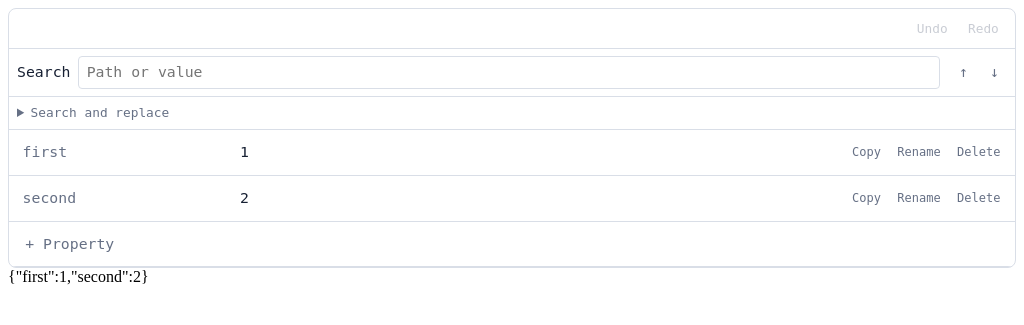
Test: ObjectEditor › keeps add and rename forms open when a key is invalid
Step 1. Click the button with aria-label "Add property to root" → (70, 244), box x1=17 y1=228 x2=122 y2=260
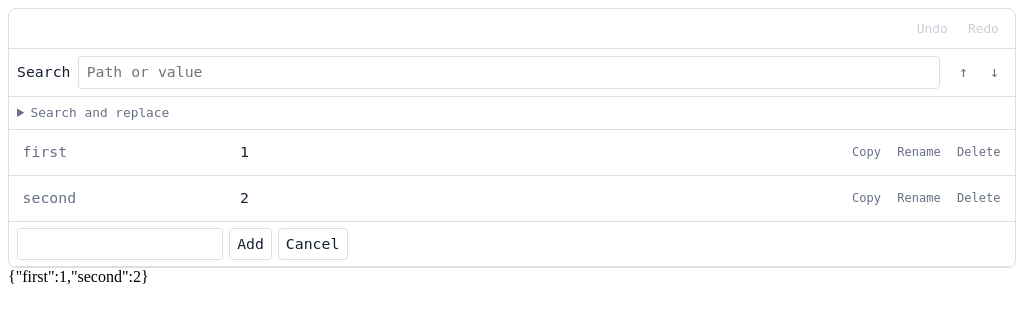
Step 2. Type "first" into the field named "New property name in root" → (120, 244), box x1=17 y1=228 x2=223 y2=260
Step 3. Click the button "Add" → (251, 244), box x1=229 y1=228 x2=272 y2=260
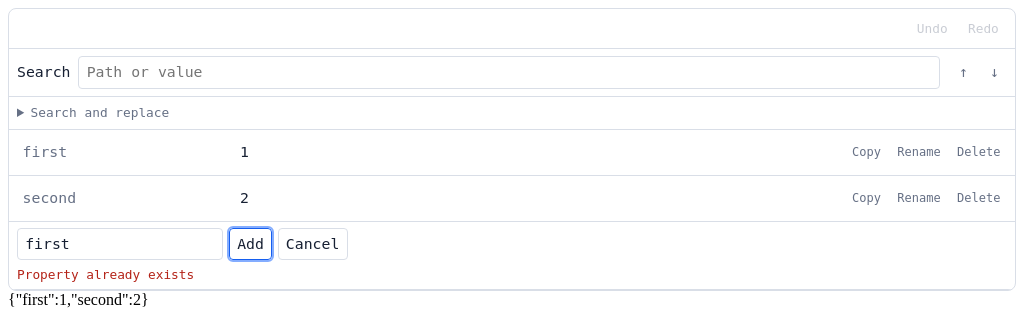
Now the message reads "Property already exists", box x1=17 y1=267 x2=194 y2=282
Step 4. Click the button "Cancel" → (313, 244), box x1=278 y1=228 x2=348 y2=260
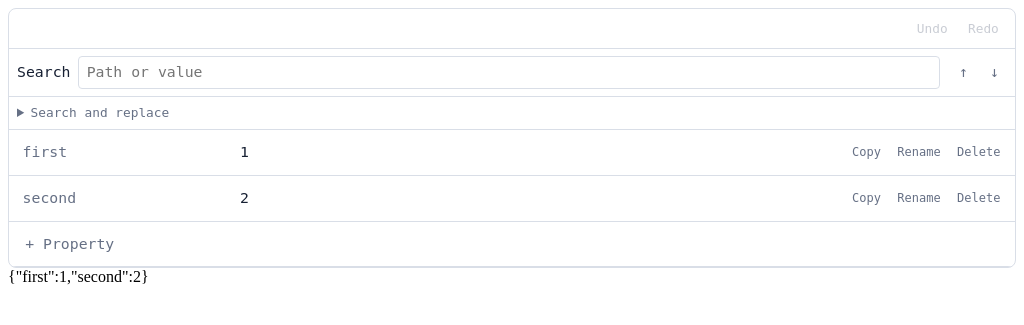
Step 5. Click the button with aria-label "Rename first" → (919, 153), box x1=891 y1=139 x2=947 y2=166
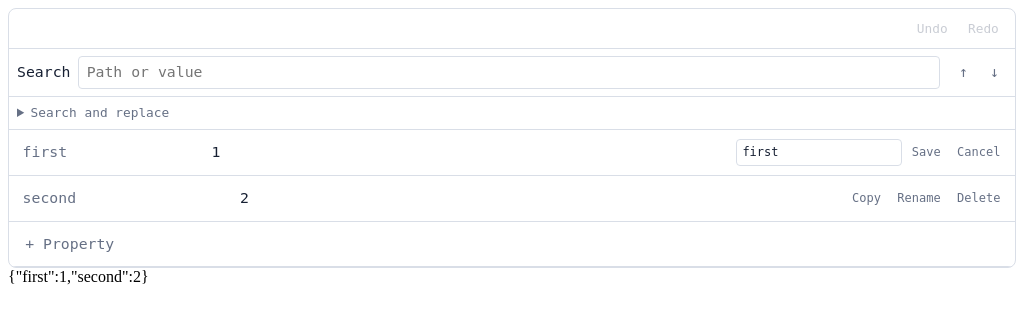
Step 6. Replace the text in the field named "New name for first" with "second" → (819, 153), box x1=736 y1=139 x2=902 y2=166
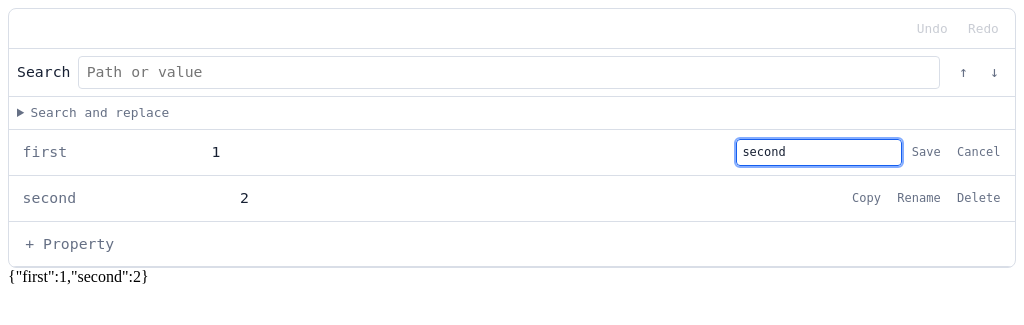
Step 7. Click the button "Save" → (926, 153), box x1=905 y1=139 x2=947 y2=166
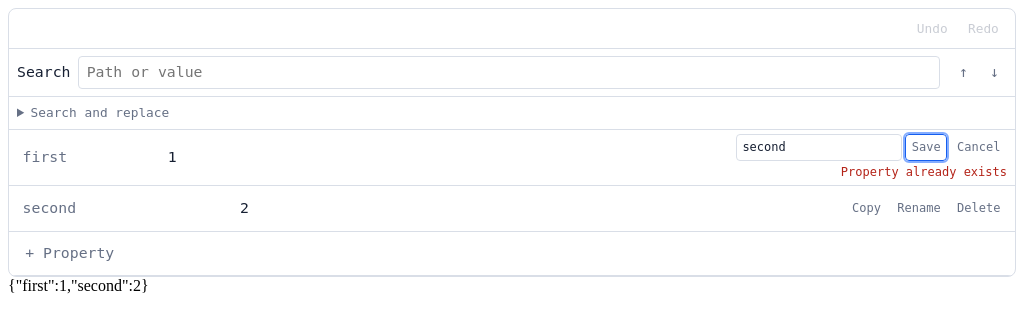
Now the message reads "Property already exists", box x1=841 y1=165 x2=1007 y2=179
